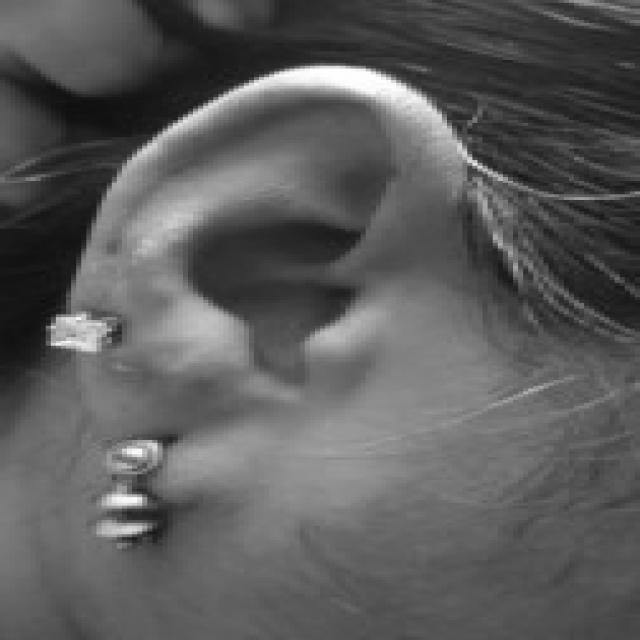ear: (66, 71, 457, 437), (264, 426, 269, 431)
